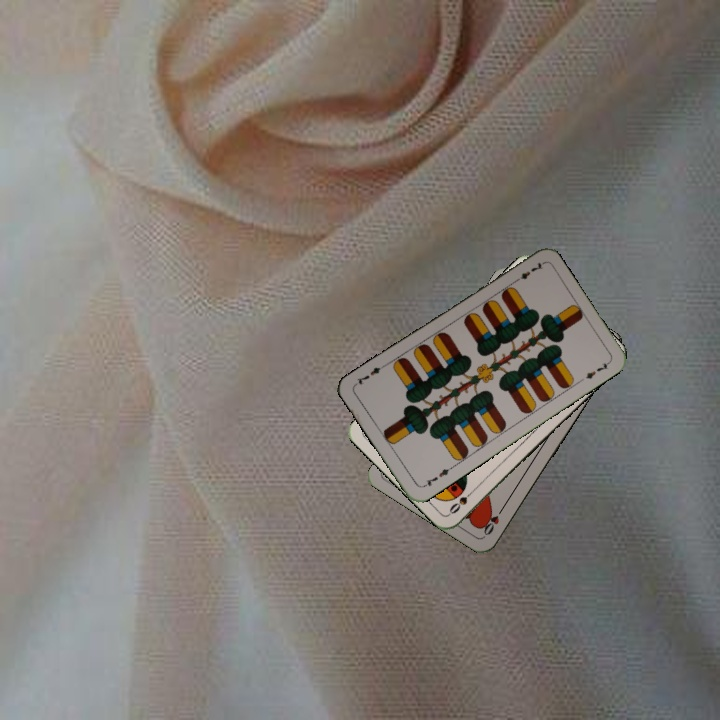E7: (509, 258, 546, 286), (419, 463, 455, 490)
HO: (479, 502, 507, 538)
SO: (445, 485, 478, 517)
